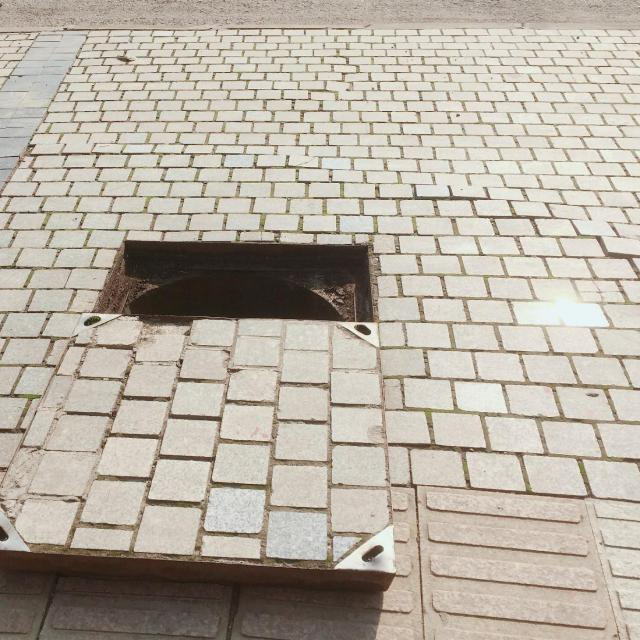Lose: (46, 222, 396, 610)
